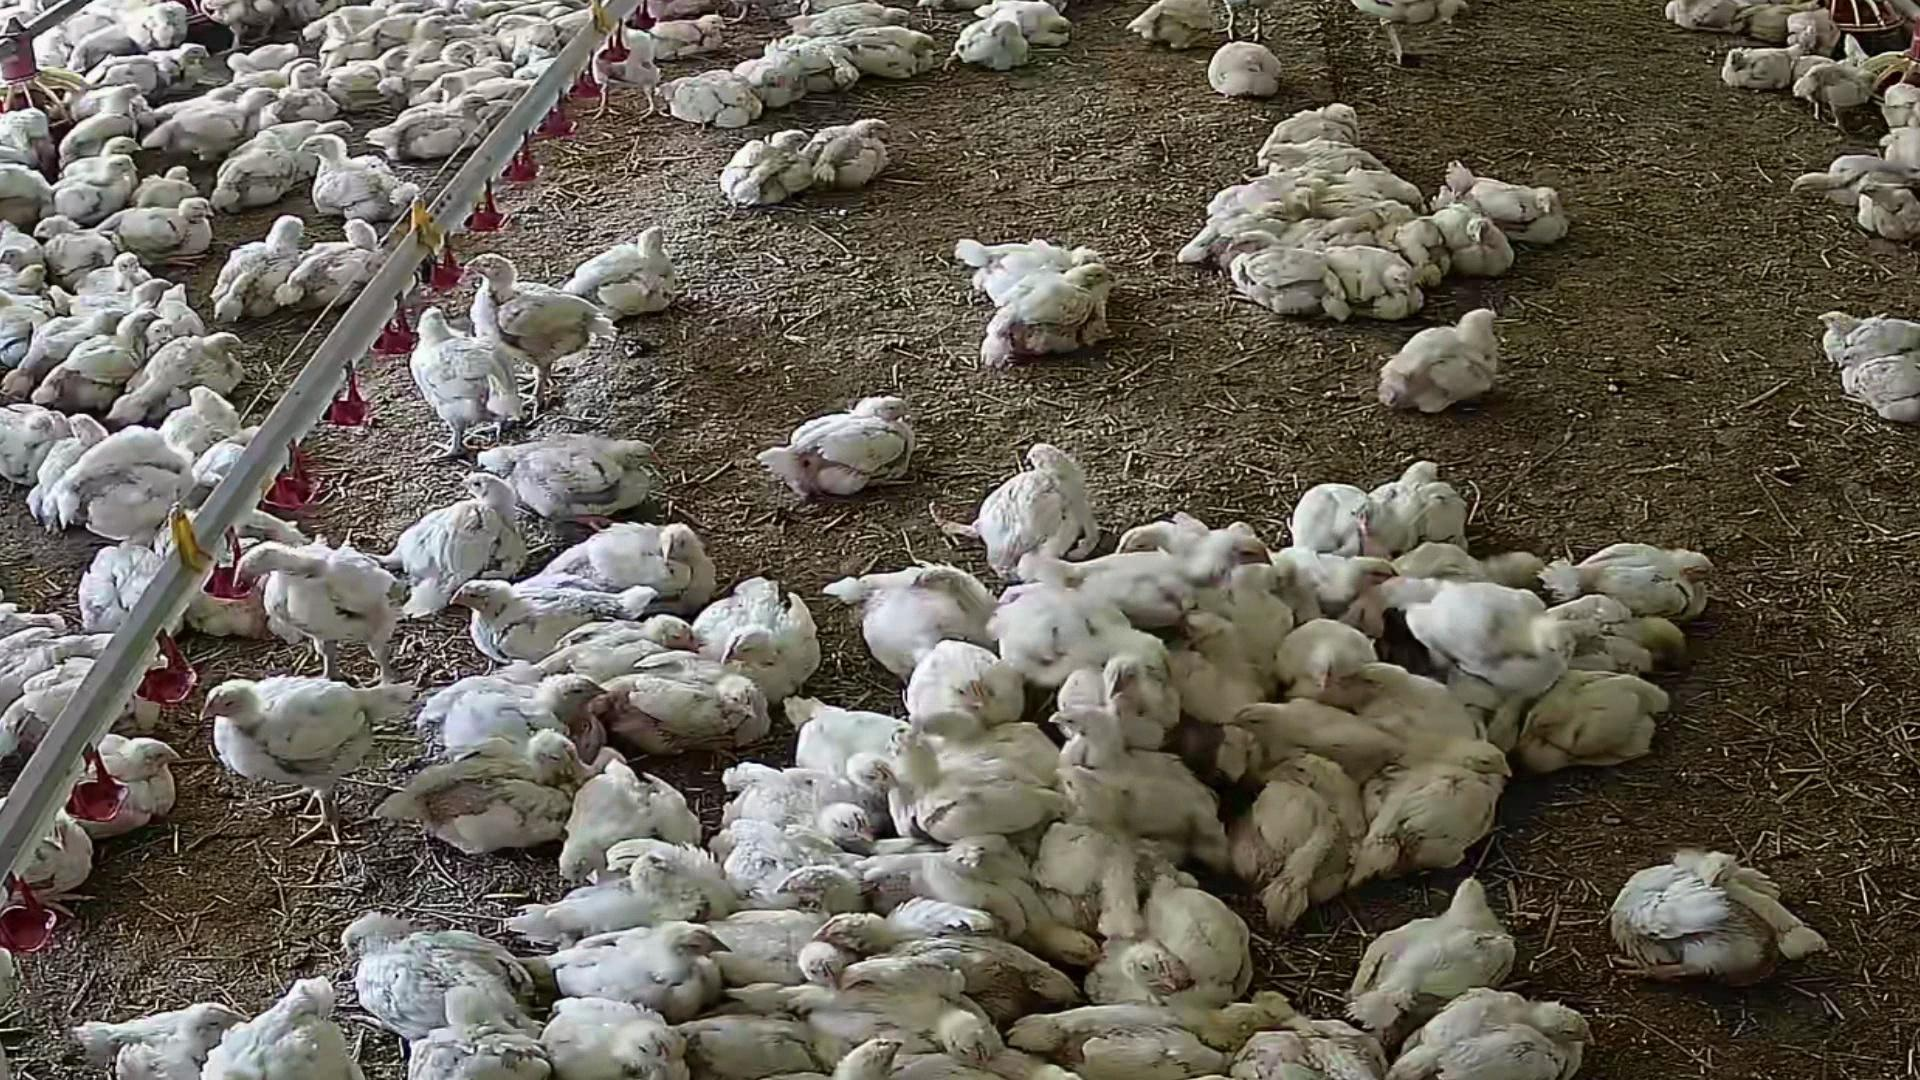poussin: (210, 683, 414, 839), (1601, 852, 1834, 982), (1055, 708, 1229, 861), (1353, 869, 1520, 1026), (402, 736, 587, 865), (229, 545, 398, 684), (465, 257, 607, 418), (1387, 976, 1601, 1080), (541, 916, 735, 1019), (339, 909, 518, 1018), (389, 476, 525, 615), (935, 855, 1100, 967), (977, 440, 1101, 588), (433, 670, 612, 771), (989, 582, 1168, 682), (534, 861, 731, 952), (692, 567, 820, 703), (891, 731, 1052, 836), (1080, 527, 1269, 617), (1502, 674, 1676, 767), (1385, 731, 1501, 868), (1146, 857, 1253, 1005), (1404, 589, 1557, 692), (835, 575, 992, 675), (477, 434, 651, 524), (604, 658, 756, 761), (1361, 305, 1503, 414), (1251, 761, 1361, 901), (415, 310, 522, 451), (65, 430, 193, 547), (454, 585, 653, 661), (572, 765, 707, 876), (844, 939, 1073, 1004), (770, 397, 913, 500), (746, 972, 948, 1043), (524, 525, 723, 595), (220, 975, 352, 1080), (1217, 690, 1394, 765), (1015, 1004, 1205, 1073), (986, 260, 1108, 368), (724, 764, 872, 851), (3, 661, 131, 760), (1548, 546, 1721, 618), (1258, 980, 1379, 1080), (794, 699, 910, 803), (69, 1005, 233, 1077), (1353, 644, 1472, 744), (549, 990, 680, 1080), (727, 820, 852, 913), (59, 738, 179, 835), (109, 331, 252, 411), (1448, 158, 1578, 244), (417, 992, 542, 1080), (546, 611, 703, 680), (0, 794, 98, 903), (1058, 665, 1178, 753), (9, 301, 119, 397), (1540, 603, 1689, 673), (37, 319, 162, 402), (868, 982, 1010, 1052), (956, 240, 1104, 307), (78, 545, 186, 634), (911, 633, 1021, 720), (0, 625, 121, 703), (191, 522, 266, 646), (1352, 0, 1480, 73), (572, 222, 670, 316), (1288, 613, 1385, 708), (1258, 555, 1408, 616), (1367, 455, 1462, 550), (720, 911, 851, 980), (1222, 235, 1331, 316), (306, 142, 418, 219), (219, 219, 302, 319), (1399, 537, 1545, 589), (595, 7, 659, 124), (291, 216, 377, 305), (1302, 476, 1386, 564), (54, 83, 142, 166), (378, 94, 485, 162), (164, 84, 284, 145), (21, 415, 95, 512), (680, 1017, 839, 1062), (814, 905, 984, 945), (1102, 932, 1189, 1011), (1324, 248, 1427, 313), (727, 129, 810, 208), (1432, 200, 1522, 272), (194, 427, 285, 497), (164, 385, 243, 463), (1385, 202, 1460, 284), (53, 156, 140, 225), (1832, 348, 1920, 415), (1791, 153, 1916, 199), (216, 131, 286, 212), (1187, 207, 1283, 266), (112, 204, 215, 258), (36, 214, 123, 277), (1799, 55, 1895, 112), (771, 1042, 916, 1079), (658, 76, 777, 121), (1812, 309, 1920, 357), (982, 0, 1079, 54), (810, 119, 890, 182), (273, 115, 356, 175), (835, 33, 944, 78), (857, 852, 942, 909), (0, 400, 54, 488), (782, 34, 861, 94), (1124, 508, 1217, 558), (731, 46, 806, 105), (1321, 164, 1425, 206), (1127, 0, 1212, 51), (297, 0, 394, 44), (1267, 100, 1370, 141), (1861, 185, 1920, 252), (1212, 42, 1282, 99), (1712, 37, 1788, 88), (1208, 173, 1313, 210), (71, 21, 133, 83), (893, 1055, 1046, 1080), (42, 277, 177, 305), (393, 42, 473, 87), (3, 111, 63, 170), (146, 281, 208, 338), (790, 8, 910, 37), (328, 51, 409, 94), (112, 0, 198, 40), (956, 17, 1015, 74), (644, 17, 728, 57), (274, 59, 324, 125), (140, 157, 206, 207), (1262, 144, 1374, 173), (202, 0, 280, 41), (498, 11, 558, 62), (0, 276, 51, 335), (0, 160, 55, 214), (153, 84, 243, 117), (73, 258, 153, 294), (1655, 0, 1743, 30), (128, 51, 212, 83), (1217, 0, 1278, 44), (0, 225, 50, 277), (1724, 0, 1797, 34), (82, 61, 165, 91), (1789, 7, 1840, 54), (1291, 215, 1379, 241), (79, 133, 145, 167), (0, 597, 63, 629), (1311, 193, 1399, 215), (28, 21, 66, 71), (1880, 123, 1920, 167), (1882, 80, 1920, 127), (560, 1, 608, 37), (327, 20, 360, 70), (468, 37, 510, 75), (405, 17, 444, 57), (287, 0, 334, 33), (915, 0, 997, 18), (483, 102, 527, 135), (220, 51, 305, 69), (442, 80, 526, 96), (516, 61, 566, 80), (644, 0, 727, 9), (438, 22, 489, 37), (802, 0, 873, 8)
